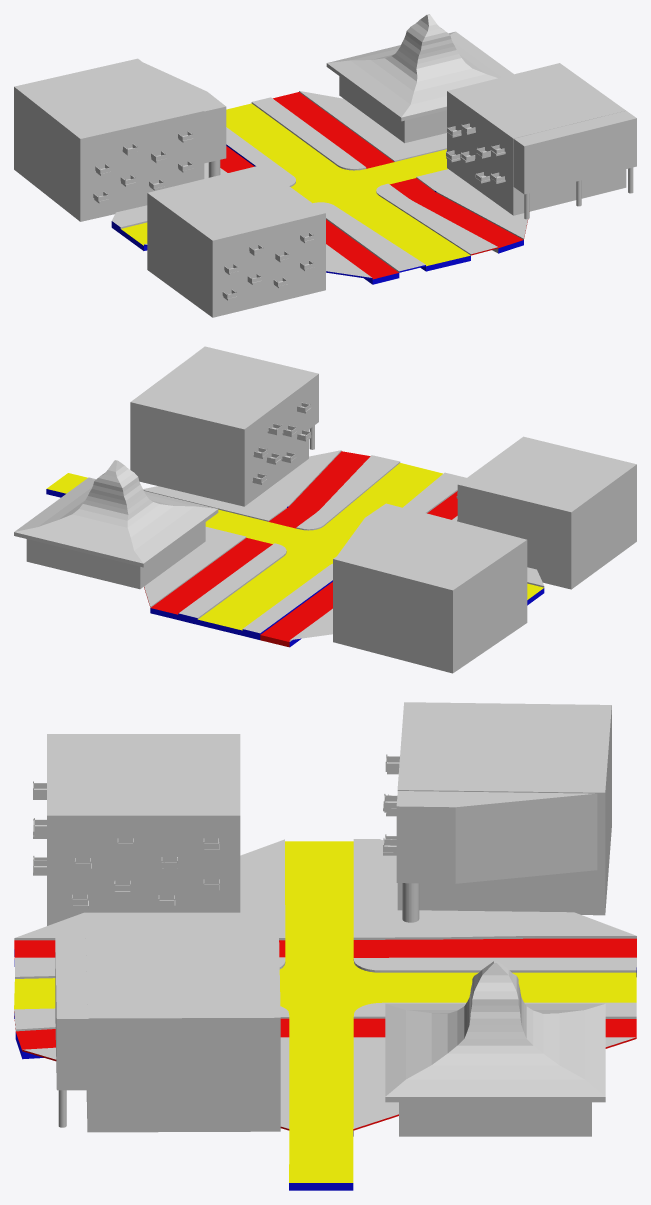
File: Pws Omgeving 5.fbx
The picture shows the model from 3 angles, top to bottom: view 1: azimuth 30°, elevation 25°; view 2: azimuth 150°, elevation 25°; view 3: azimuth 270°, elevation 25°; orthographic projection. The views are drawn at different scales.
Visible parts, largest first — view 1: Cube.020; view 2: Cube.020; view 3: Cube.020.
Boxes of the visible parts, <box> form: Cube.020: <box>14,14,636,317</box>; Cube.020: <box>14,346,636,673</box>; Cube.020: <box>14,702,636,1190</box>.
Bounding box in the file's own units: 10787 × 2122 × 7931.
